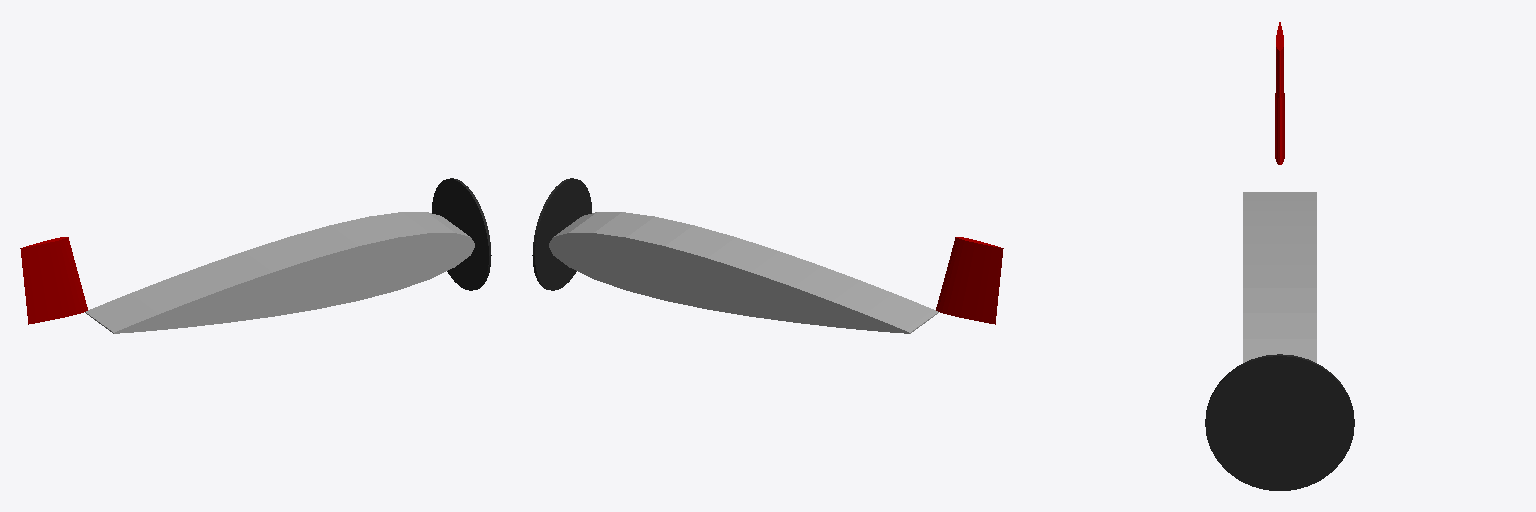
robot.urdf — drone_ea:
<?xml version='1.0' encoding='utf-8'?>
<robot name="drone_ea">

  
  <material name="grey"><color rgba="0.7 0.7 0.7 1" /></material>
  <material name="red"><color rgba="0.7 0 0 1" /></material>
  <material name="black"><color rgba="0.2 0.2 0.2 1" /></material>

  
  <link name="root_link">
    <inertial>
      <origin xyz="0 0 0" rpy="0 0 0" />
      <mass value="0" />
      <inertia ixx="0" ixy="0" ixz="0" iyy="0" iyz="0" izz="0" />
    </inertial>
  </link>

  
  <joint name="fixed_joint_base_fuselage" type="fixed">
    <parent link="root_link" />
    <child link="fuselage" />
    <origin xyz="0 0 0" rpy="3.141592653589793 0 0" />
  </joint>

  <link name="fuselage">
    <inertial>
      <origin xyz="-0.275 0 -0.04" rpy="0 0 0" />
      <mass value="0.5" />
      <inertia ixx="2.9015955e-04" ixy="0" ixz="0" iyy="7.4080147e-03" iyz="0" izz="7.4511885e-03" />
    </inertial>

    <visual name="fuselage_visual_0">
      <origin xyz="0 0 0" rpy="0 0 0" />
      <geometry>
        <mesh filename="package://meshes/fuselage_only.stl" scale="0.00097 0.001 0.001" name="fuselage_visual_0_shape_0" />
      </geometry>
      <material name="grey" />
    </visual>

    
    <collision name="fuselage_collision_0"><origin xyz="-0.3637137339341273 1.3039958826196884e-18 0.0024556534860724526" rpy="-1.5898372930676048 6.123233995736766e-17 -1.5707963267948968" /><geometry><box size="0.10000000000000005 0.10476803794561983 0.7273891147638257" name="fuselage_collision_0_box_0" /></geometry></collision></link>

  <joint name="fixed_joint_aero_frame_fuselage" type="fixed">
    <parent link="fuselage" />
    <child link="aero_frame_fuselage" />
    <origin xyz="-0.275 0 -0.03" rpy="0 3.141592653589793 0" />
  </joint>

  <link name="aero_frame_fuselage">
    <inertial>
      <origin xyz="0 0 0" rpy="0 0 0" />
      <mass value="0" />
      <inertia ixx="0" ixy="0" ixz="0" iyy="0" iyz="0" izz="0" />
    </inertial>
  </link>

  
<!-- ================================================================ -->
<!-- ELEVATOR sdoppiato (collision box = metà span)                   -->
<!-- ================================================================ -->

<!-- giunto di beccheggio (invariato) -->
<joint name="elevator_pitch_joint" type="revolute">
  <parent link="fuselage"/>
  <child  link="elevator_hinge"/>
  <origin xyz="-0.75 0 0" rpy="0 0 0"/>
  <axis xyz="0 1 0"/>
  <limit lower="-0.261799" upper="0.261799" effort="1.0" velocity="3.665191429"/>
  <dynamics damping="0.2" friction="0.05"/>
</joint>

<!-- nodo radice: solo visual -->
<link name="elevator_hinge">
  <inertial><origin xyz="0 0 0" rpy="0 0 0"/><mass value="0"/>
            <inertia ixx="0" ixy="0" ixz="0" iyy="0" iyz="0" izz="0"/></inertial>
  <visual>
    <origin xyz="0 0 0" rpy="0 0 0"/>
    <geometry><mesh filename="package://meshes/elevator.stl" scale="0.0007 0.0012 0.001"/></geometry>
    <material name="grey"/>
  </visual>
</link>


<joint name="fixed_joint_elevator_left" type="fixed">
  <parent link="elevator_hinge"/><child link="elevator_left"/>
  <origin xyz="0  0.09 0" rpy="0 0 0"/>          <!-- +0.09 m = COM -->
</joint>

<link name="elevator_left">
  <inertial>
    <origin xyz="-0.0434 0 0" rpy="0 0 0"/>
    <mass value="0.025"/>
    <inertia ixx="1.0416665e-04" ixy="0" ixz="0"
             iyy="3.5416665e-04" iyz="0" izz="4.1666665e-04"/>
  </inertial>
  <collision>
    <origin xyz="-0.0700043273 0 -0.0226291863"
            rpy="1.5763749568 -1.5318707859 3.1359944429"/>
    <geometry>
      <!-- span dimezzato: 0.1800 m -->
      <box size="0.0135567616 0.139941293 0.1800018297"/>
    </geometry>
  </collision>
</link>

<joint name="fixed_joint_aero_frame_elevator_left" type="fixed">
  <parent link="elevator_left"/><child link="aero_frame_elevator_left"/>
  <origin xyz="-0.0434 0 0" rpy="0 3.141592654 0"/>
</joint>
<link name="aero_frame_elevator_left">
        <inertial>
        <origin xyz="0 0 0" rpy="0 0 0"/>
        <mass value="0"/>
        <inertia ixx="0" ixy="0" ixz="0" iyy="0" iyz="0" izz="0"/>
        </inertial>
</link>


<joint name="fixed_joint_elevator_right" type="fixed">
  <parent link="elevator_hinge"/><child link="elevator_right"/>
  <origin xyz="0 -0.09 0" rpy="0 0 0"/>          <!-- –0.09 m = COM -->
</joint>

<link name="elevator_right">
  <inertial>
    <origin xyz="-0.0434 0 0" rpy="0 0 0"/>
    <mass value="0.025"/>
    <inertia ixx="1.0416665e-04" ixy="0" ixz="0"
             iyy="3.5416665e-04" iyz="0" izz="4.1666665e-04"/>
  </inertial>
  <collision>
    <origin xyz="-0.0700043273 0 -0.0226291863"
            rpy="1.5763749568 -1.5318707859 3.1359944429"/>
    <geometry>
      <box size="0.0135567616 0.139941293 0.1800018297"/>
    </geometry>
  </collision>
</link>

<joint name="fixed_joint_aero_frame_elevator_right" type="fixed">
  <parent link="elevator_right"/><child link="aero_frame_elevator_right"/>
  <origin xyz="-0.0434 0 0" rpy="0 3.141592654 0"/>
</joint>
<link name="aero_frame_elevator_right">
        <inertial>
        <origin xyz="0 0 0" rpy="0 0 0"/>
        <mass value="0"/>
        <inertia ixx="0" ixy="0" ixz="0" iyy="0" iyz="0" izz="0"/>
        </inertial>
</link>


  
  <joint name="rudder_yaw_joint" type="revolute">
    <parent link="elevator_hinge" />
    <child link="rudder" />
    <origin xyz="-0.0 0 0" rpy="0 0 0" />
    <axis xyz="0 0 1" />
    <limit lower="-0.523599" upper="0.523599" effort="1.0" velocity="3.665191429" />
    <dynamics damping="0.2" friction="0.05" />
  </joint>

  <link name="rudder">
    <inertial>
      <origin xyz="-0.0372 0 -0.08" rpy="0 0 0" />
      <mass value="0.02" />
      <inertia ixx="5.283333e-05" ixy="0" ixz="0" iyy="7.083333e-05" iyz="0" izz="1.950000e-05" />
    </inertial>
    <visual name="rudder_visual_0">
      <origin xyz="0 0 0" rpy="0 0 0" />
      <geometry><mesh filename="package://meshes/rudder.stl" scale="0.0008 0.001 0.001" name="rudder_visual_0_shape_0" /></geometry>
      <material name="red" />
    </visual>
    <collision name="rudder_collision_0"><origin xyz="-0.06799945448794147 -0.0006858935606931133 -0.10499447081596952" rpy="0.10626955814138643 0.008780081131392076 1.5717328981686811" /><geometry><box size="0.01347209289684701 0.119323096637794 0.16357341166046455" name="rudder_collision_0_box_0" /></geometry></collision></link>

  
  <joint name="fixed_joint_aero_frame_rudder" type="fixed">
    <parent link="rudder" />
    <child link="aero_frame_rudder" />
    <origin xyz="-0.0372 0 -0.08" rpy="0 3.141592653589793 0" />
  </joint>

  <link name="aero_frame_rudder">
        <inertial>
        <origin xyz="0 0 0" rpy="0 0 0"/>
        <mass value="0"/>
        <inertia ixx="0" ixy="0" ixz="0" iyy="0" iyz="0" izz="0"/>
        </inertial>
  </link>

<!-- ================================================================ -->
<!-- WINGS – ciascuna divisa in “prop-wash” e “free-stream” + sweep    -->
<!-- ================================================================ -->

<joint name="fixed_joint_right_wing" type="fixed">
<parent link="fuselage"/>
<child  link="fuselage_right_0"/>
<origin xyz="-0.275 0.05 -0.03" rpy="0 0 3.141592653589793"/>
</joint>

<link name="fuselage_right_0">
<inertial><origin xyz="0 0 0" rpy="0 0 0"/>
    <mass value="0.1"/>
    <inertia ixx="5.651e-05" ixy="0" ixz="0"
            iyy="5.651e-05" iyz="0" izz="5.651e-05"/>
</inertial>
</link>

<joint name="joint_0_twist_right_wing" type="revolute">
<parent link="fuselage_right_0"/>
<child  link="fuselage_right_1"/>
<origin xyz="0 0 0" rpy="0 0 0"/>
<axis  xyz="0 1 0"/>
<limit lower="-0.5235987756" upper="0.5235987756"
        effort="1.5" velocity="3.665191429"/>
<dynamics damping="0.2" friction="0.05"/>
</joint>

<link name="fuselage_right_1">
<inertial><origin xyz="0 0 0" rpy="0 0 0"/>
    <mass value="0.1"/>
    <inertia ixx="5.651e-05" ixy="0" ixz="0"
            iyy="5.651e-05" iyz="0" izz="5.651e-05"/>
</inertial>
</link>


<joint name="joint_1_sweep_right_wing" type="revolute">
<parent link="fuselage_right_1"/>
<child  link="right_wing"/>
<origin xyz="0 -0.05 0" rpy="0 0 0"/>
<axis  xyz="0 0 1"/>
<limit lower="-0.5235987756" upper="0.5235987756"
        effort="1.5" velocity="3.665191429"/>
<dynamics damping="0.2" friction="0.05"/>
</joint>

<!-- Radice (solo visual) -->
<link name="right_wing">
<inertial><origin xyz="0 0 0" rpy="0 0 0"/>
    <mass value="0"/><inertia ixx="0" ixy="0" ixz="0"
                            iyy="0" iyz="0" izz="0"/>
</inertial>
<visual name="right_wing_visual">
    <origin xyz="0 0 0" rpy="0 0 0"/>
    <geometry>
    <mesh filename="package://meshes/wing0009.stl"
            scale="0.2 0.7 0.2"/>
    </geometry>
    <material name="red"/>
</visual>
</link>

<!-- ► Prop-wash panel (7,14 %) -->
<joint name="fixed_joint_right_wing_prop" type="fixed">
<parent link="right_wing"/><child link="right_wing_prop"/>
<origin xyz="0 -0.025 0" rpy="0 0 0"/>
</joint>

<link name="right_wing_prop">
<inertial>
    <origin xyz="0.034436664 0 0" rpy="0 0 0"/>
    <mass value="0.004233"/>
    <inertia ixx="2.2582371e-04" ixy="0" ixz="0"
            iyy="9.375186e-06" iyz="0" izz="2.3504357e-04"/>
</inertial>
<collision name="right_wing_prop_collision">
    <origin xyz="0.049996122 0 -0.000421042"
            rpy="1.570796327 -1.558922022 0"/>
    <geometry><box size="0.017962225 0.199988144 0.05"/></geometry>
</collision>
</link>

<joint name="fixed_joint_aero_frame_right_wing_prop" type="fixed">
<parent link="right_wing_prop"/><child link="aero_frame_right_wing_prop"/>
<origin xyz="0 0 0" rpy="3.141592654 0 0"/>
</joint>
<link name="aero_frame_right_wing_prop">
<inertial>
  <origin xyz="0 0 0" rpy="0 0 0"/>
  <mass value="0"/>
  <inertia ixx="0" ixy="0" ixz="0" iyy="0" iyz="0" izz="0"/>
</inertial>
</link>

<!-- ► Free-stream panel (92,86 %) -->
<joint name="fixed_joint_right_wing_free" type="fixed">
<parent link="right_wing"/><child link="right_wing_free"/>
<origin xyz="0 -0.375 0" rpy="0 0 0"/>
</joint>

<link name="right_wing_free">
<inertial>
    <origin xyz="0.034436664 0 0" rpy="0 0 0"/>
    <mass value="0.055025"/>
    <inertia ixx="2.9357083e-03" ixy="0" ixz="0"
            iyy="1.2187741e-04" iyz="0" izz="3.0555664e-03"/>
</inertial>
<collision name="right_wing_free_collision">
    <origin xyz="0.049996122 0 -0.000421042"
            rpy="1.570796327 -1.558922022 0"/>
    <geometry><box size="0.017962225 0.199988144 0.65"/></geometry>
</collision>
</link>

<joint name="fixed_joint_aero_frame_right_wing_free" type="fixed">
<parent link="right_wing_free"/><child link="aero_frame_right_wing_free"/>
<origin xyz="0 0 0" rpy="3.141592654 0 0"/>
</joint>
<link name="aero_frame_right_wing_free">
<inertial>
  <origin xyz="0 0 0" rpy="0 0 0"/>
  <mass value="0"/>
  <inertia ixx="0" ixy="0" ixz="0" iyy="0" iyz="0" izz="0"/>
</inertial>
</link>


<joint name="fixed_joint_left_wing" type="fixed">
<parent link="fuselage"/>
<child  link="fuselage_left_0"/>
<origin xyz="-0.275 -0.05 -0.03" rpy="0 0 3.141592653589793"/>
</joint>

<link name="fuselage_left_0">
<inertial><origin xyz="0 0 0" rpy="0 0 0"/>
    <mass value="0.1"/>
    <inertia ixx="5.651e-05" ixy="0" ixz="0"
            iyy="5.651e-05" iyz="0" izz="5.651e-05"/>
</inertial>
</link>

<joint name="joint_0_twist_left_wing" type="revolute">
<parent link="fuselage_left_0"/>
<child  link="fuselage_left_1"/>
<origin xyz="0 0 0" rpy="0 0 0"/>
<axis  xyz="0 1 0"/>
<limit lower="-0.5235987756" upper="0.5235987756"
        effort="1.5" velocity="3.665191429"/>
<dynamics damping="0.2" friction="0.05"/>
</joint>

<link name="fuselage_left_1">
<inertial><origin xyz="0 0 0" rpy="0 0 0"/>
    <mass value="0.1"/>
    <inertia ixx="5.651e-05" ixy="0" ixz="0"
            iyy="5.651e-05" iyz="0" izz="5.651e-05"/>
</inertial>
</link>


<joint name="joint_1_sweep_left_wing" type="revolute">
<parent link="fuselage_left_1"/>
<child  link="left_wing"/>
<origin xyz="0 0.05 0" rpy="0 0 0"/>
<axis  xyz="0 0 1"/>
<limit lower="-0.5235987756" upper="0.5235987756"
        effort="1.5" velocity="3.665191429"/>
<dynamics damping="0.2" friction="0.05"/>
</joint>

<!-- Radice (solo visual) -->
<link name="left_wing">
<inertial><origin xyz="0 0 0" rpy="0 0 0"/>
    <mass value="0"/><inertia ixx="0" ixy="0" ixz="0"
                            iyy="0" iyz="0" izz="0"/>
</inertial>
<visual name="left_wing_visual">
    <origin xyz="0 0 0" rpy="3.141592654 0 0"/>
    <geometry>
    <mesh filename="package://meshes/wing0009.stl"
            scale="0.2 0.7 0.2"/>
    </geometry>
    <material name="red"/>
</visual>
</link>

<!-- ► Prop-wash panel -->
<joint name="fixed_joint_left_wing_prop" type="fixed">
<parent link="left_wing"/><child link="left_wing_prop"/>
<origin xyz="0 0.025 0" rpy="0 0 0"/>
</joint>

<link name="left_wing_prop">
<inertial>
    <origin xyz="0.034436664 0 0" rpy="0 0 0"/>
    <mass value="0.004233"/>
    <inertia ixx="2.2582371e-04" ixy="0" ixz="0"
            iyy="9.375186e-06" iyz="0" izz="2.3504357e-04"/>
</inertial>
<collision name="left_wing_prop_collision">
    <origin xyz="0.049996122 0 -0.000421042"
            rpy="1.570796327 -1.558922022 0"/>
    <geometry><box size="0.017962225 0.199988144 0.05"/></geometry>
</collision>
</link>

<joint name="fixed_joint_aero_frame_left_wing_prop" type="fixed">
<parent link="left_wing_prop"/><child link="aero_frame_left_wing_prop"/>
<origin xyz="0 0 0" rpy="3.141592654 0 0"/>
</joint>
<link name="aero_frame_left_wing_prop">
<inertial>
  <origin xyz="0 0 0" rpy="0 0 0"/>
  <mass value="0"/>
  <inertia ixx="0" ixy="0" ixz="0" iyy="0" iyz="0" izz="0"/>
</inertial>
</link>

<!-- ► Free-stream panel -->
<joint name="fixed_joint_left_wing_free" type="fixed">
<parent link="left_wing"/><child link="left_wing_free"/>
<origin xyz="0 0.375 0" rpy="0 0 0"/>
</joint>

<link name="left_wing_free">
<inertial>
    <origin xyz="0.034436664 0 0" rpy="0 0 0"/>
    <mass value="0.055025"/>
    <inertia ixx="2.9357083e-03" ixy="0" ixz="0"
            iyy="1.2187741e-04" iyz="0" izz="3.0555664e-03"/>
</inertial>
<collision name="left_wing_free_collision">
    <origin xyz="0.049996122 0 -0.000421042"
            rpy="1.570796327 -1.558922022 0"/>
    <geometry><box size="0.017962225 0.199988144 0.65"/></geometry>
</collision>
</link>

<joint name="fixed_joint_aero_frame_left_wing_free" type="fixed">
<parent link="left_wing_free"/><child link="aero_frame_left_wing_free"/>
<origin xyz="0 0 0" rpy="3.141592654 0 0"/>
</joint>
<link name="aero_frame_left_wing_free">
<inertial>
  <origin xyz="0 0 0" rpy="0 0 0"/>
  <mass value="0"/>
  <inertia ixx="0" ixy="0" ixz="0" iyy="0" iyz="0" izz="0"/>
</inertial>
</link>

    
  
  <joint name="fixed_joint_prop_frame_fuselage_0" type="fixed">
    <parent link="fuselage" />
    <child link="prop_frame_fuselage_0" />
    <origin xyz="0 0 0" rpy="3.141592653589793 -1.5707963267948966 0" />
  </joint>

  <link name="prop_frame_fuselage_0">
    <inertial>
      <origin xyz="0 0 0" rpy="0 0 0" />
      <mass value="0.031" />
      
      <inertia ixx="3.7625e-05" ixy="0" ixz="0" iyy="3.7625e-05" iyz="0" izz="7.5000e-05" />
    </inertial>
    <visual name="prop_frame_fuselage_0_visual_0">
      <origin xyz="0 0 0" rpy="0 0 0" />
      <geometry><cylinder radius="0.1" length="0.005" name="prop_frame_fuselage_0_visual_0_shape_0" /></geometry>
      <material name="black" />
    </visual>
    <collision name="prop_frame_collision">
    <origin xyz="0 0 0"
            rpy="0 0 0"/>
    <geometry><box size="0.2 0.2 0.02"/></geometry>
    </collision>
    
  </link>

</robot>

--- Render facts (derived) ---
The picture shows the robot from 3 angles, left to right: view 1: azimuth 30°, elevation 25°; view 2: azimuth 150°, elevation 25°; view 3: azimuth 270°, elevation 25°; orthographic projection.
Robot: drone_ea — 25 links, 24 joints (6 revolute, 18 fixed); root link root_link; default pose: every joint at zero.
Links seen in each view (by area): view 1: fuselage, rudder, prop_frame_fuselage_0; view 2: fuselage, rudder, prop_frame_fuselage_0; view 3: prop_frame_fuselage_0, fuselage, rudder.
Link boxes in pixels (bbox=[...]): fuselage: bbox=[85, 212, 474, 333]; rudder: bbox=[20, 237, 87, 324]; prop_frame_fuselage_0: bbox=[432, 178, 491, 290]; fuselage: bbox=[549, 212, 938, 333]; rudder: bbox=[936, 237, 1003, 324]; prop_frame_fuselage_0: bbox=[532, 178, 591, 290]; prop_frame_fuselage_0: bbox=[1205, 354, 1354, 490]; fuselage: bbox=[1243, 192, 1316, 362]; rudder: bbox=[1275, 22, 1284, 164].
Size in the robot's own frame: 0.8885 by 0.2 by 0.28 metres.
Meshes: 4 distinct files referenced, 2 mesh visuals loaded (2 binary STL); not drawn: 3 (reference not matched to a file when rendering).